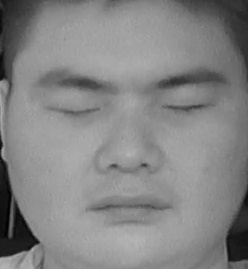blink: (43, 91, 98, 127), (164, 91, 212, 123)
mouth: (85, 180, 173, 232)
